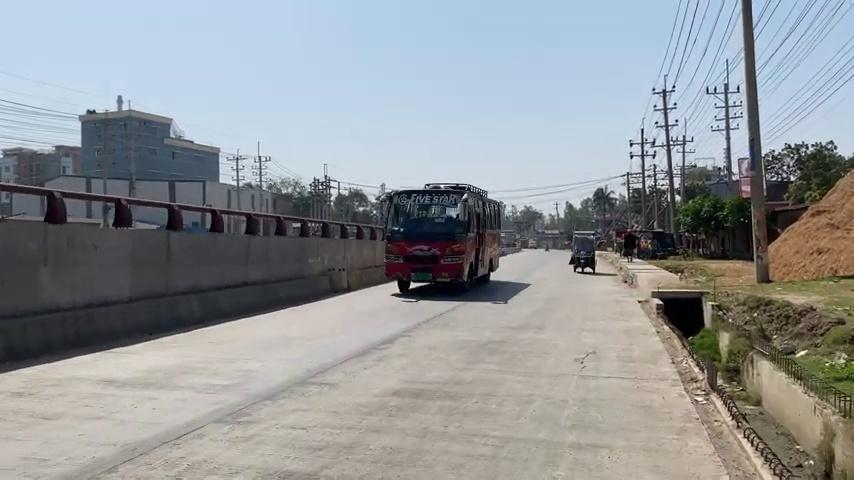Fallen-tree: (0, 181, 388, 368)
Garbage: (739, 0, 770, 283)
Garbage-bin: (646, 274, 731, 350)
Rickshaw: (379, 182, 503, 294), (559, 219, 613, 289)
